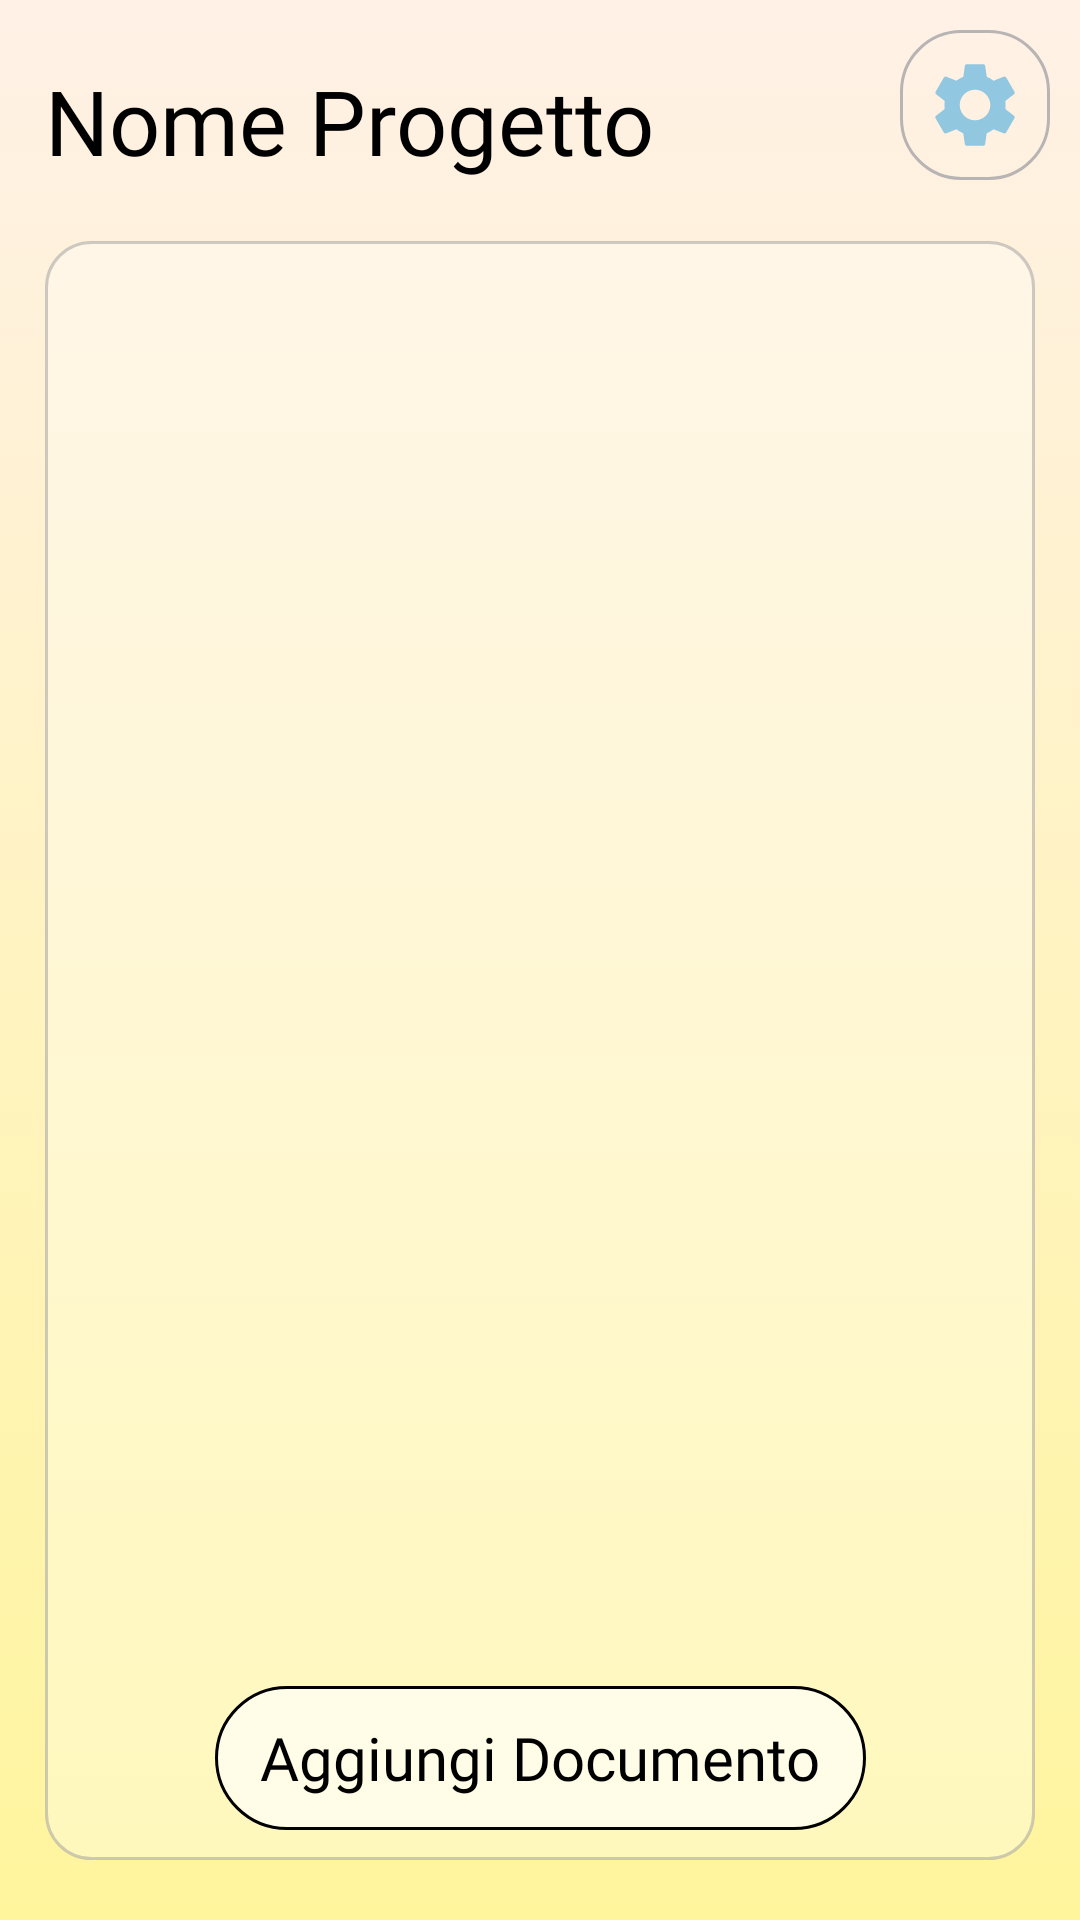

Screen size 1080x1920. Icon name, then its box in pixels as (x1, y1, x2, y2):
settings: (900, 30, 1050, 180)
